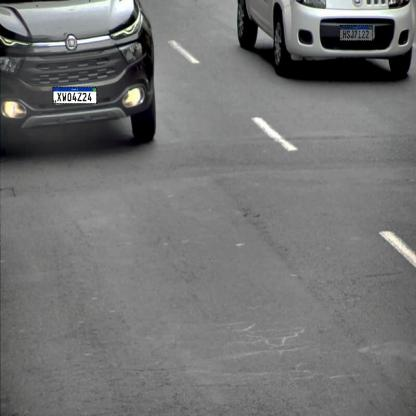PlacaM: (53, 87, 97, 104), (339, 25, 373, 41)
